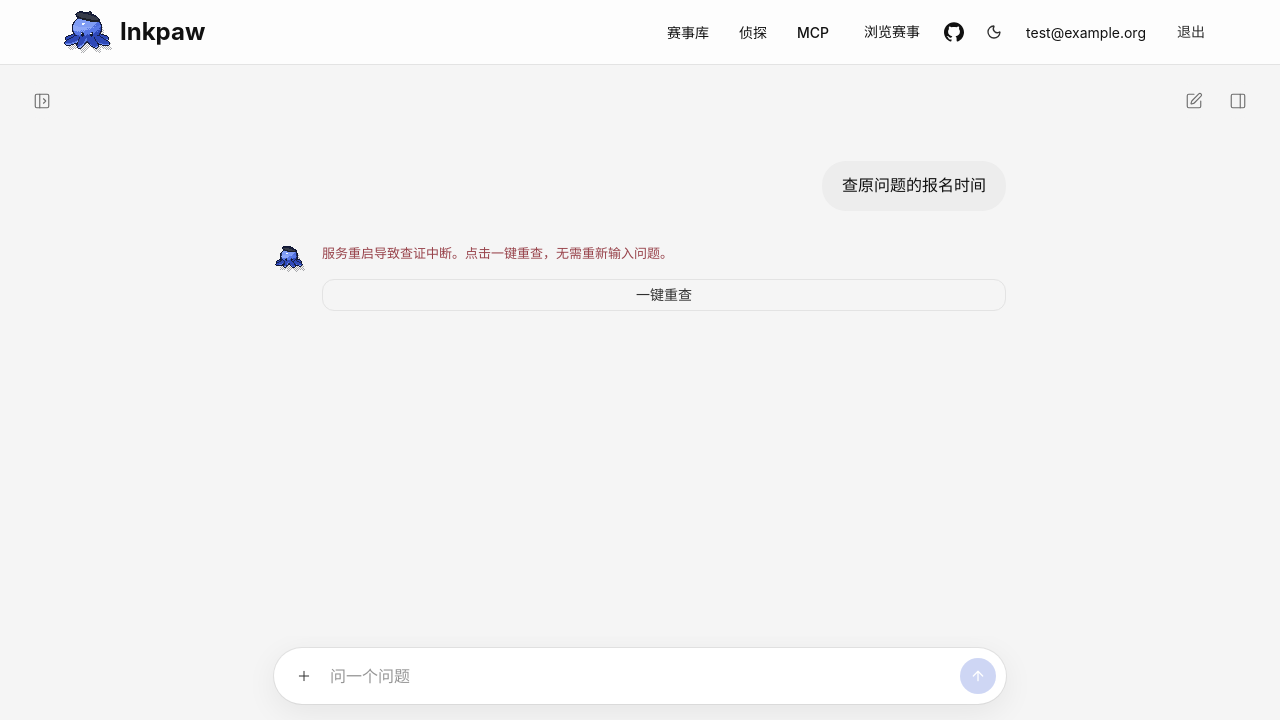
Test: one-click retry after restart keeps the question and preferences without retyping
Click the button "一键重查": coordinates (664, 295) left=322, top=279, right=1006, bottom=311
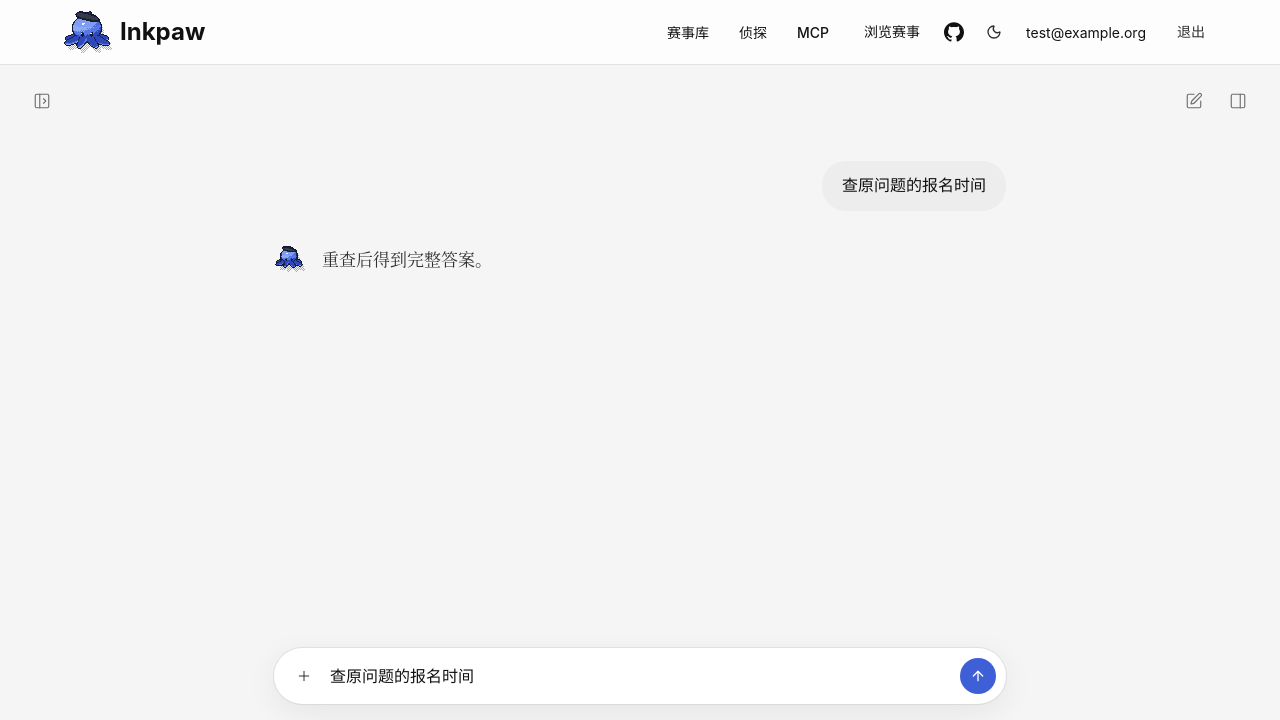
Expected: the text "查原问题的报名时间" is shown, left=822, top=161, right=1006, bottom=211
Expected: the text "重查后得到完整答案。" is shown, left=322, top=246, right=492, bottom=271
